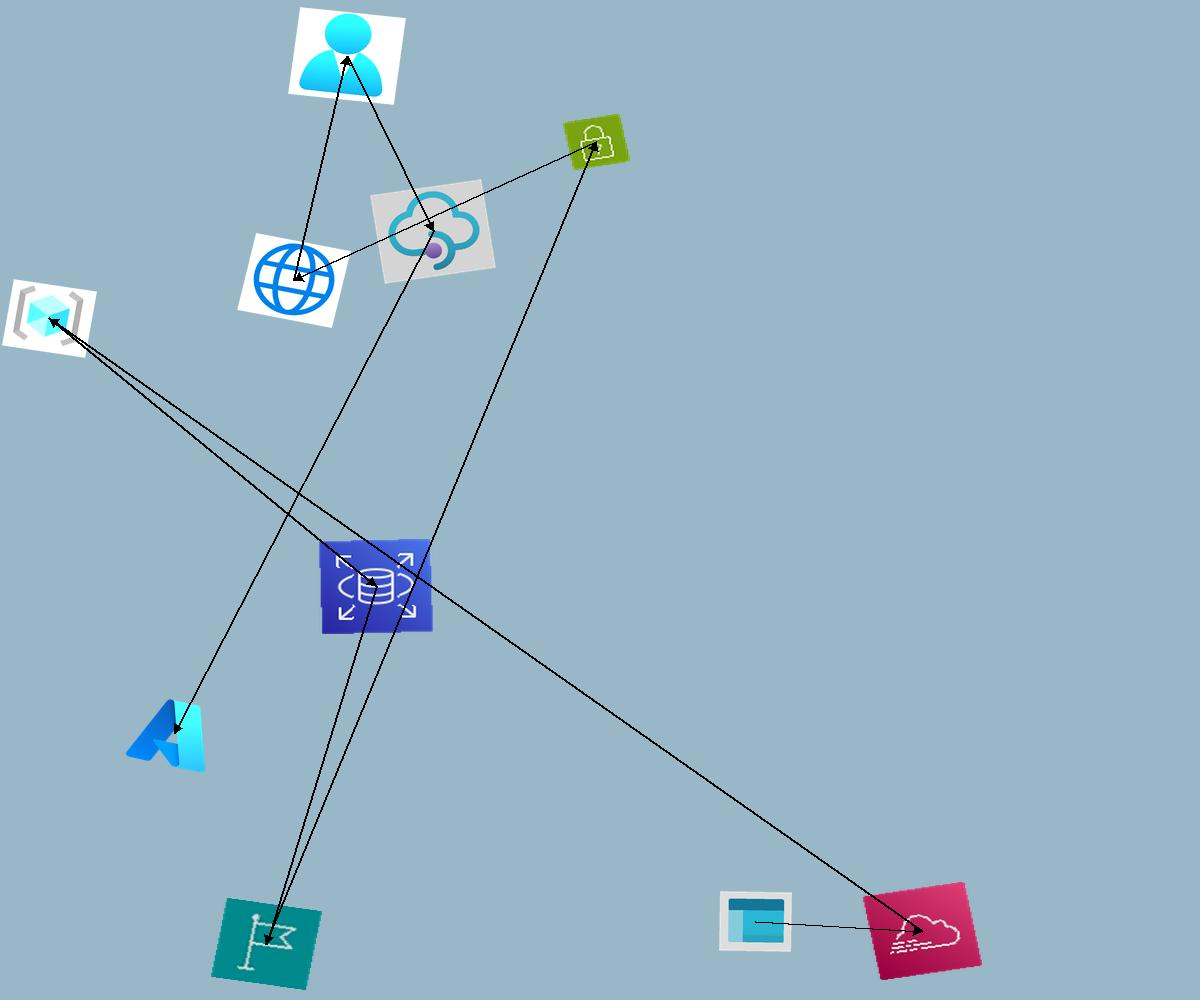AWS-CloudTrail: (862, 881, 983, 981)
AWS-Public-subnet: (562, 113, 631, 171)
AWS-RDS: (318, 538, 434, 635)
AWS-Region: (210, 897, 323, 991)
Azure_api_gateway: (370, 179, 496, 284)
Azure_http: (237, 233, 351, 328)
Azure_management-portal: (719, 891, 792, 952)
Azure_resource_group: (2, 279, 97, 358)
Azure_services: (120, 688, 229, 779)
Azure_users: (288, 7, 406, 105)
